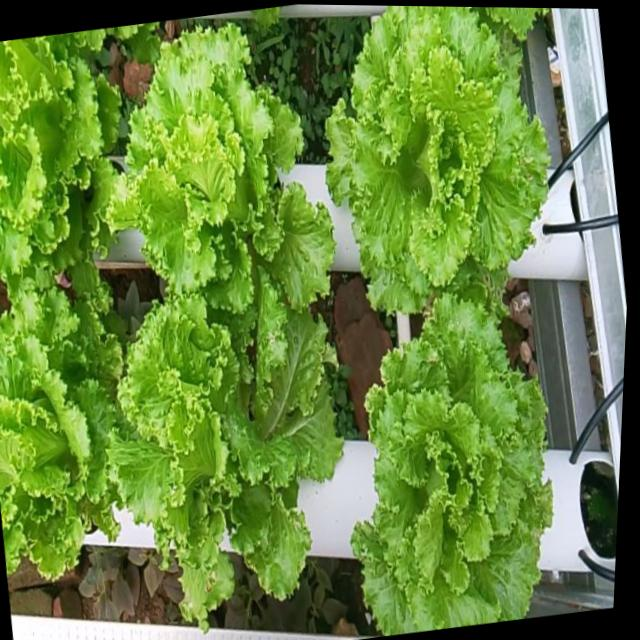Mature: (111, 292, 345, 622), (111, 24, 337, 351), (329, 6, 553, 315), (353, 294, 555, 636), (0, 290, 122, 579), (0, 36, 121, 298)
